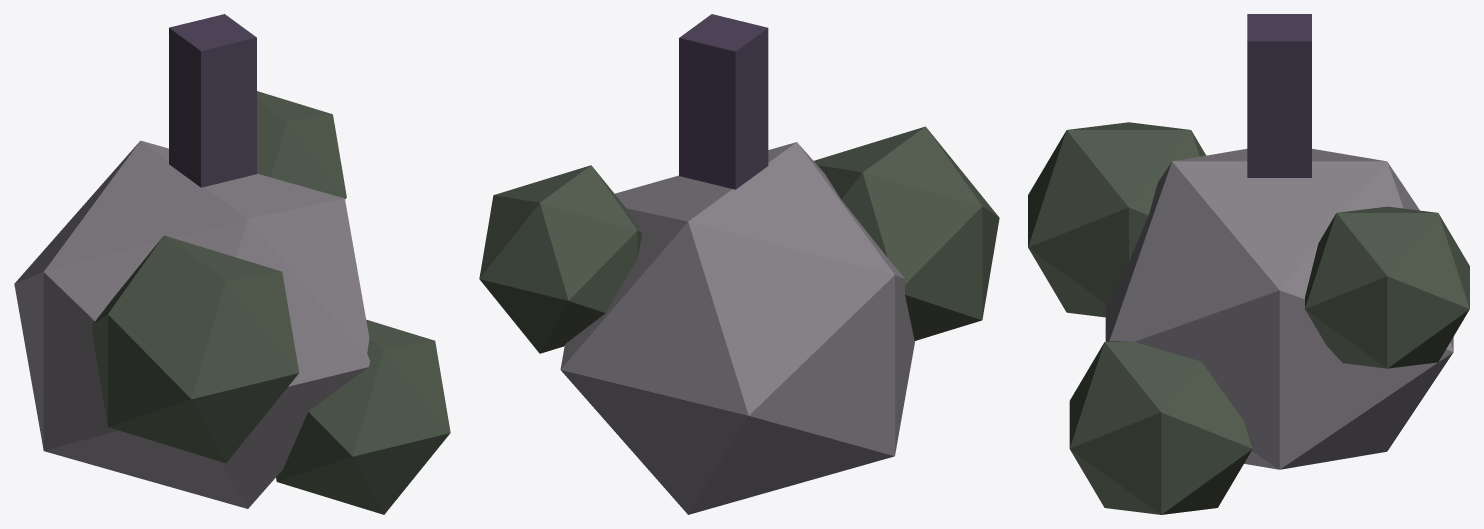
The model's file is rotten.glb.
3 views of the same model, side by side, from view 1: azimuth 30°, elevation 25°; view 2: azimuth 150°, elevation 25°; view 3: azimuth 270°, elevation 25° (orthographic).
Visible parts, largest first — view 1: Fruit; view 2: Fruit; view 3: Fruit.
Boxes of the visible parts, x1=… form: Fruit: x1=14, y1=14, x2=450, y2=514; Fruit: x1=479, y1=14, x2=999, y2=514; Fruit: x1=1028, y1=14, x2=1469, y2=514.
Size of the model in its own units: 0.3801 by 0.4501 by 0.4101.
